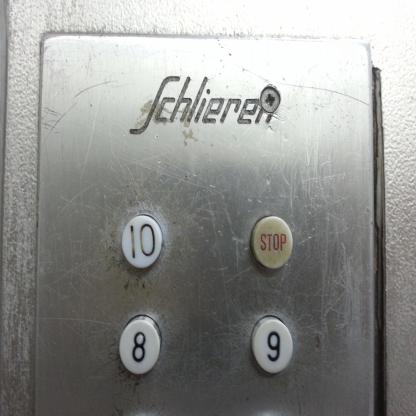10: (120, 212, 164, 271)
8: (118, 313, 162, 376)
9: (250, 313, 294, 377)
text_stop: (250, 212, 294, 270)
